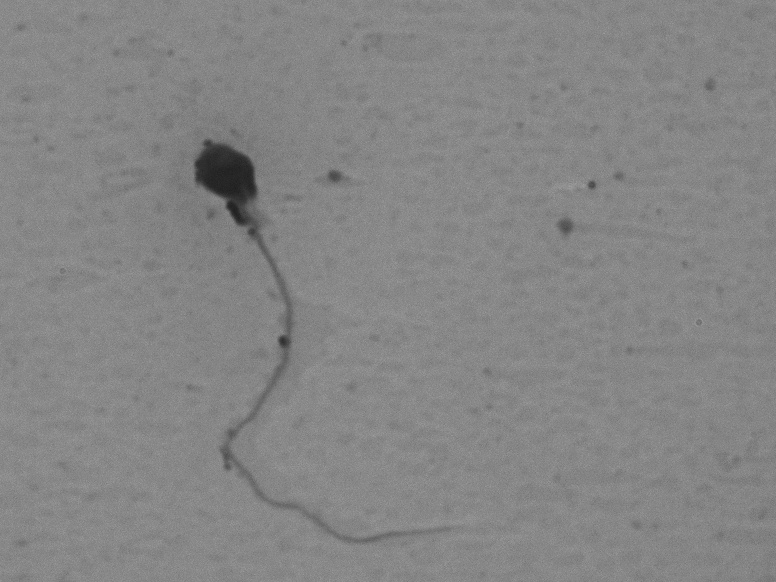Abnormal: (138, 119, 512, 559)
